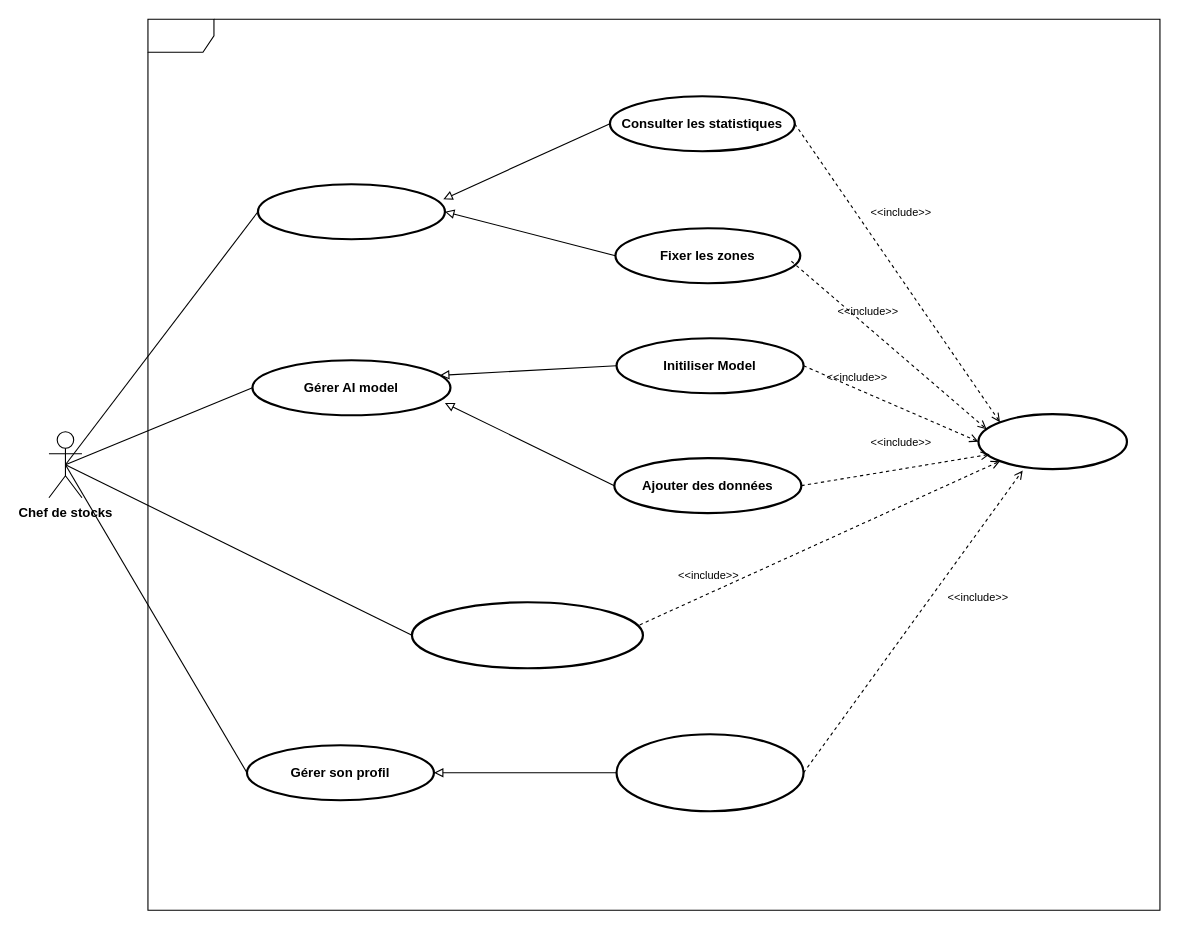
This 1179x930 diagram has some shape labels left out. The shapes that lost their labels are listed below. From the top down, each one's centre as x and y in pixels, then its label:
At (x=351, y=211): "Gérer les stocks".
At (x=1052, y=441): "S'authentifier".
At (x=527, y=635): "Consulter les fichiers de rapport (PDF)".
At (x=709, y=772): "Modifier les informations du profil".
